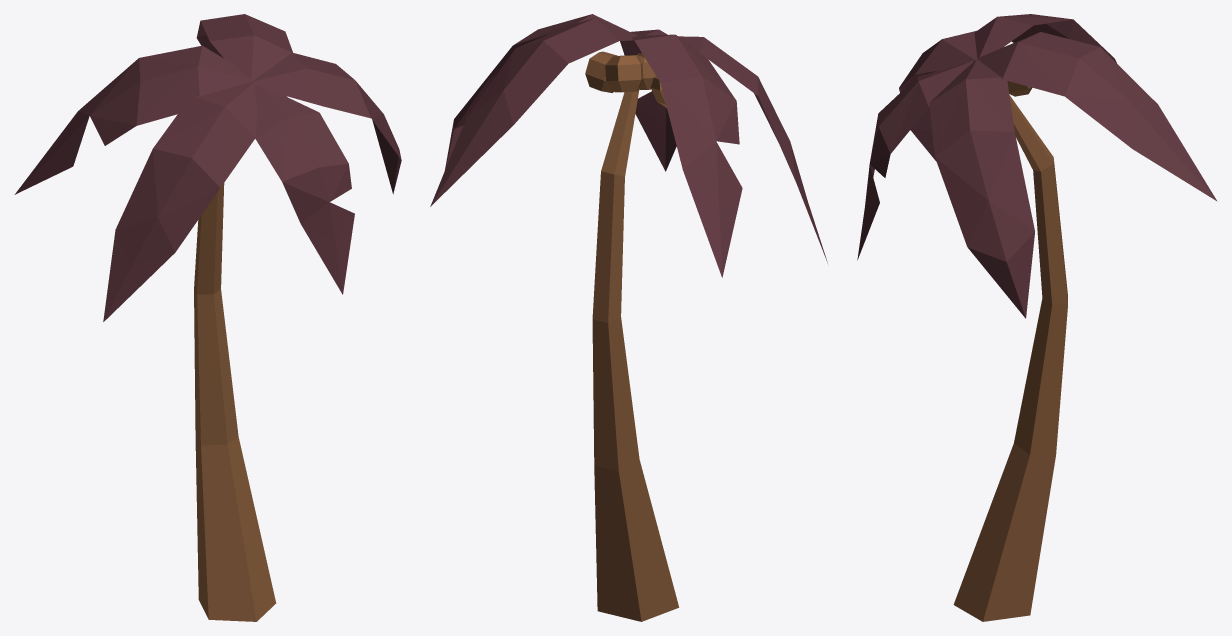
Rendered from palm-big.fbx.
The picture shows the model from 3 angles, left to right: view 1: azimuth 30°, elevation 25°; view 2: azimuth 150°, elevation 25°; view 3: azimuth 270°, elevation 25°; orthographic projection. The views are drawn at different scales.
Parts seen in each view (by area): view 1: palm-big; view 2: palm-big; view 3: palm-big.
Boxes of the visible parts, x1,y1,x2,y2 form: palm-big: [14, 14, 401, 621]; palm-big: [430, 14, 827, 621]; palm-big: [857, 14, 1217, 621].
Size of the model in its own units: 4.19 by 6.78 by 3.84.
